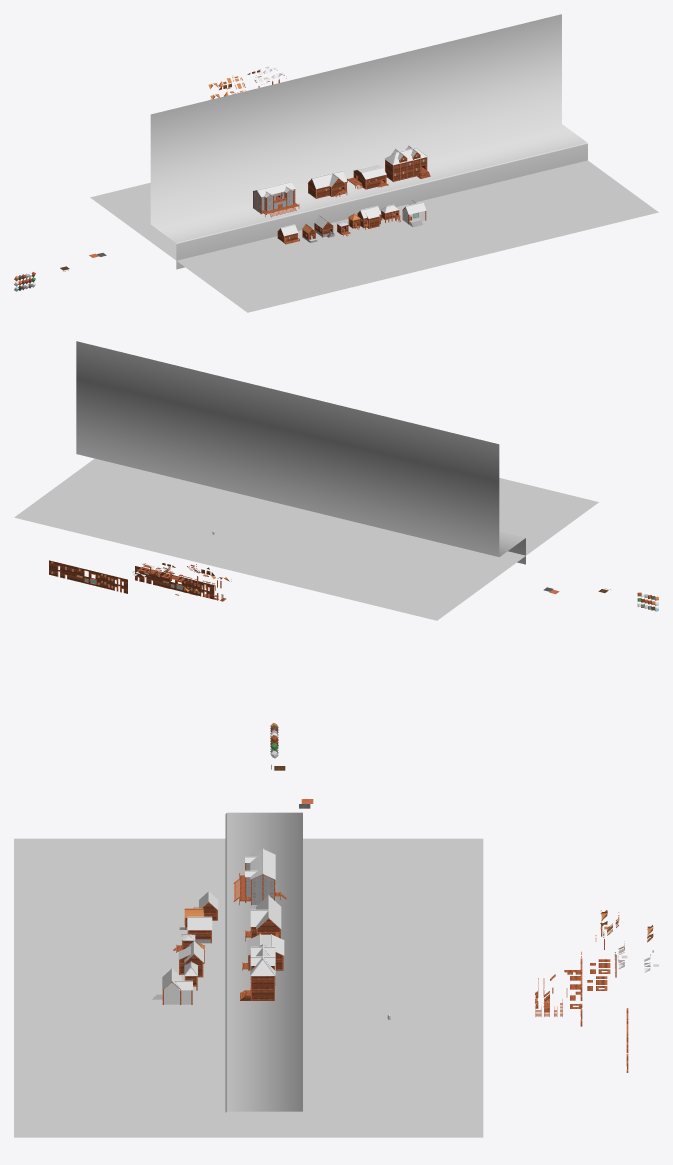
File: HouseProps_AssetPack.fbx
The picture shows the model from 3 angles, top to bottom: view 1: azimuth 30°, elevation 25°; view 2: azimuth 150°, elevation 25°; view 3: azimuth 270°, elevation 25°; orthographic projection. The views are drawn at different scales.
Parts seen in each view (by area): view 1: Plane; view 2: Plane; view 3: Plane, House7_Roof, House5_Roof, House10_Roof.
Part boxes in pixels (bbox=[...]): Plane: bbox=[90, 14, 658, 312]; Plane: bbox=[14, 341, 598, 620]; Plane: bbox=[14, 812, 483, 1137]; House7_Roof: bbox=[250, 944, 275, 976]; House5_Roof: bbox=[244, 848, 275, 879]; House10_Roof: bbox=[250, 895, 281, 929].
Size of what is drawn, in the model's own units: 33374 by 7784 by 22477.
